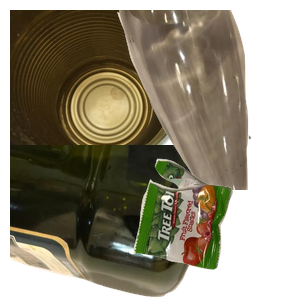glass: (115, 10, 300, 190)
metal: (10, 10, 200, 180)
plastic: (10, 145, 213, 300)
trash: (131, 156, 300, 300)
